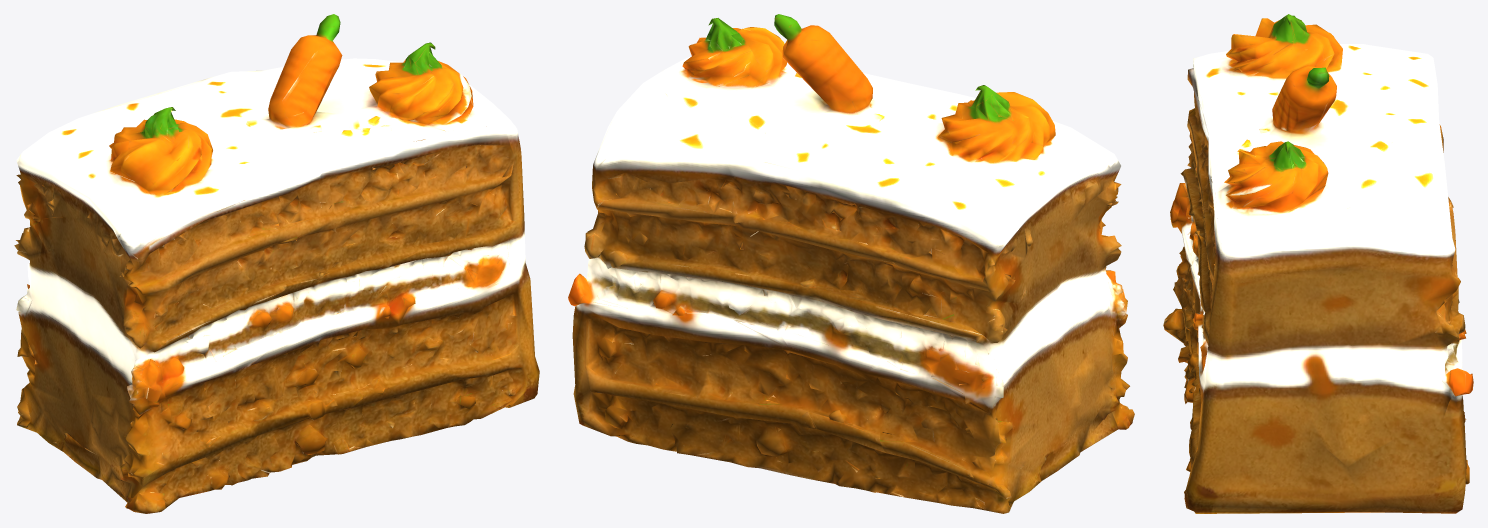
The model's file is carrot_cake.glb.
3 renders of one model, left to right at view 1: azimuth 30°, elevation 25°; view 2: azimuth 150°, elevation 25°; view 3: azimuth 270°, elevation 25°, orthographic. The views are drawn at different scales.
Visible parts, largest first — view 1: Object_5; view 2: Object_5; view 3: Object_5.
Boxes of the visible parts, x1,y1,x2,y2 form: Object_5: (14, 14, 539, 513); Object_5: (568, 14, 1134, 513); Object_5: (1163, 14, 1473, 513).
Bounding box in the file's own units: 1.91 × 1.66 × 1.21.
Materials: 1 (1 with a texture image).
